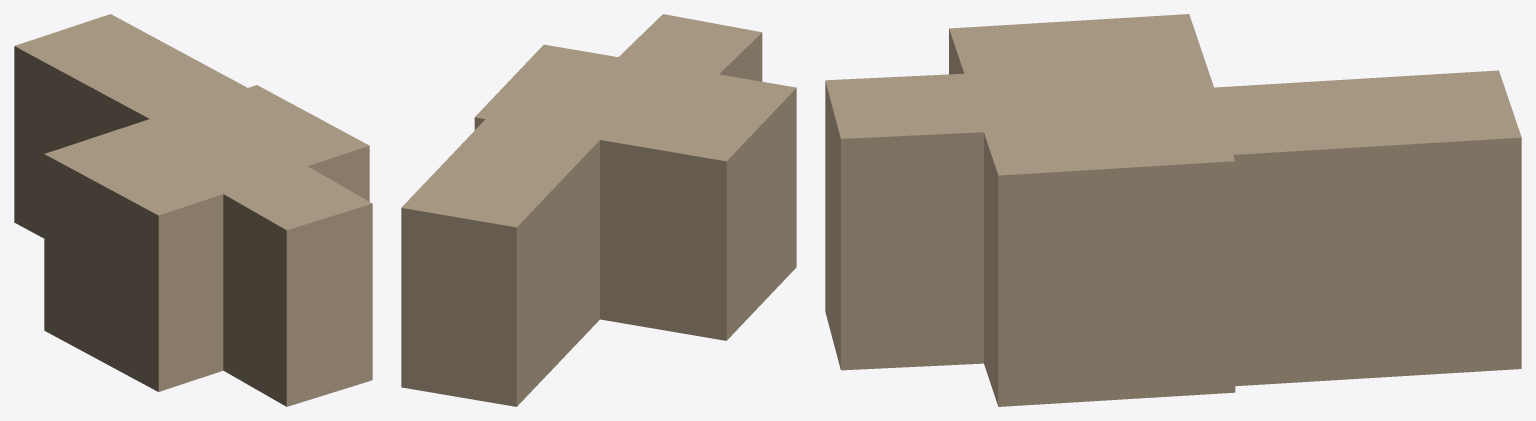
File: bld_107639501.dae
3 renders of one model, left to right at view 1: azimuth 30°, elevation 25°; view 2: azimuth 150°, elevation 25°; view 3: azimuth 270°, elevation 25°, orthographic. The views are drawn at different scales.
Parts seen in each view (by area): view 1: bld_107639501; view 2: bld_107639501; view 3: bld_107639501.
Part boxes in pixels (x1,y1,x2,y2): bld_107639501: (14, 14, 372, 406); bld_107639501: (401, 14, 796, 406); bld_107639501: (825, 14, 1521, 406).
Size of the model in its own units: 11.98 by 21.82 by 8.
